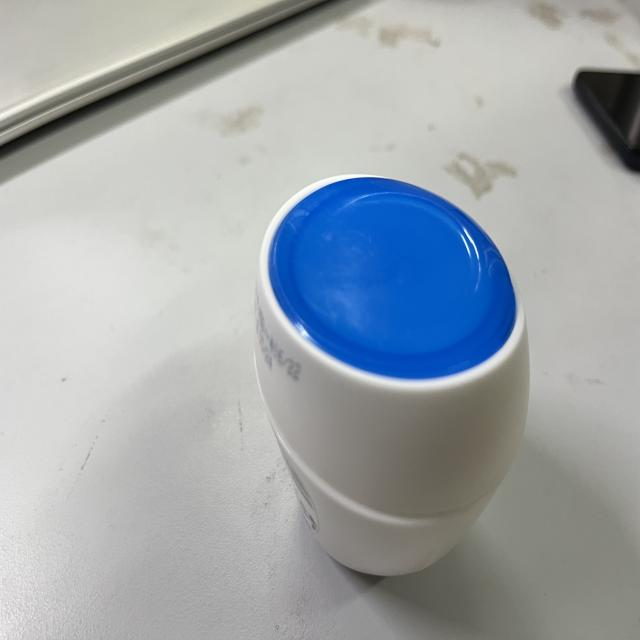L1: (234, 159, 540, 579)
